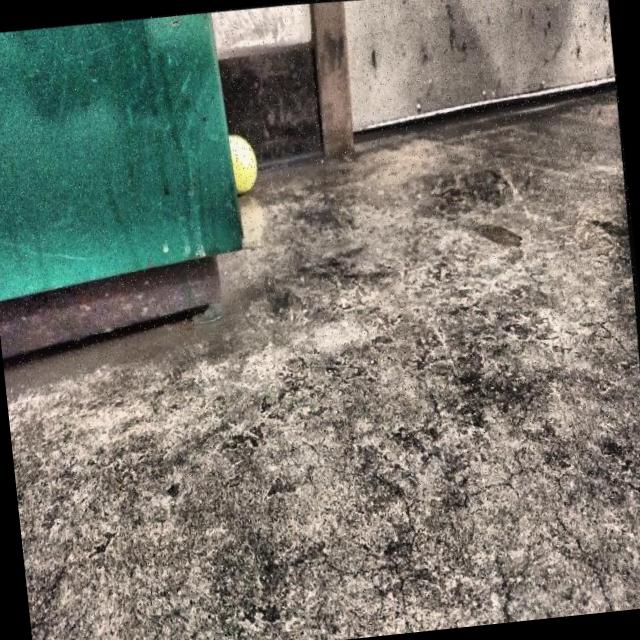Tennis Ball: (218, 127, 267, 205)
